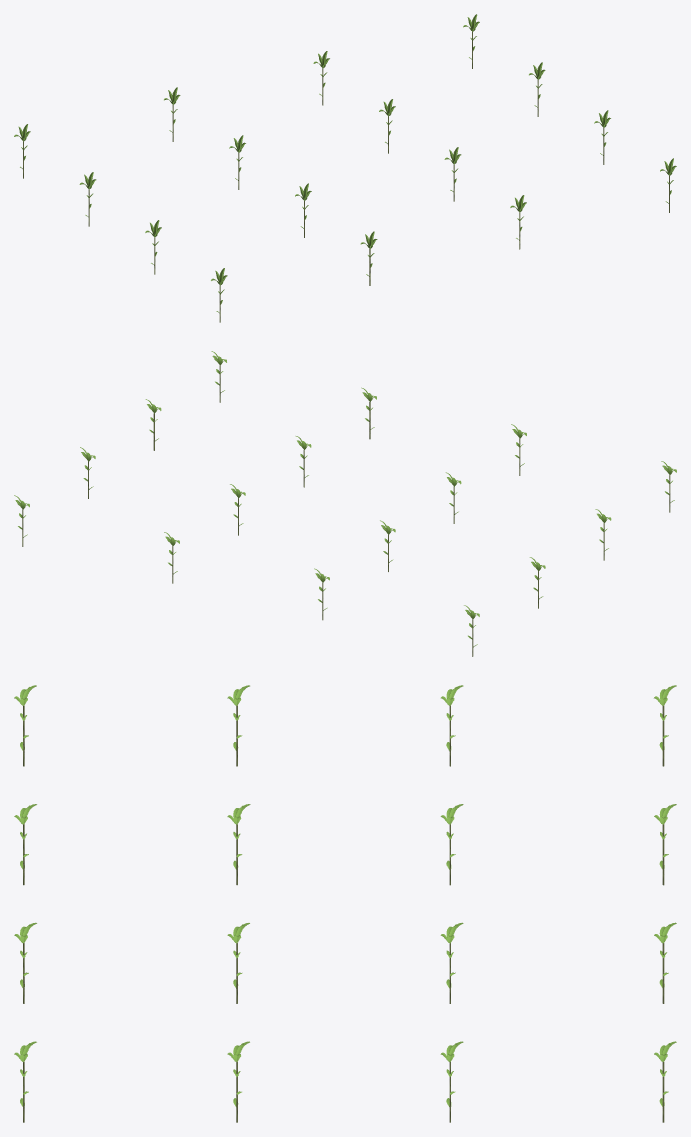
Rendered from sugarcane2.fbx.
3 renders of one model, top to bottom at view 1: azimuth 30°, elevation 25°; view 2: azimuth 150°, elevation 25°; view 3: azimuth 270°, elevation 25°, orthographic. The views are drawn at different scales.
Visible parts, largest first — view 1: sugarcane2; view 2: sugarcane2; view 3: sugarcane2.
Part boxes in pixels (<box>): sugarcane2: <box>14,14,676,322</box>; sugarcane2: <box>14,351,676,656</box>; sugarcane2: <box>14,685,676,1122</box>.
Size of the model in its own units: 689 by 72.93 by 524.
